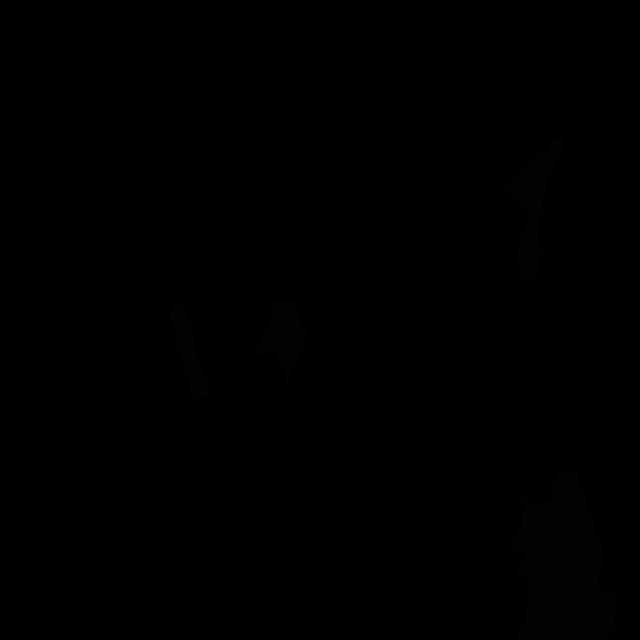cardboard: (514, 470, 616, 640), (506, 134, 566, 287), (255, 298, 312, 391), (169, 294, 210, 402)
